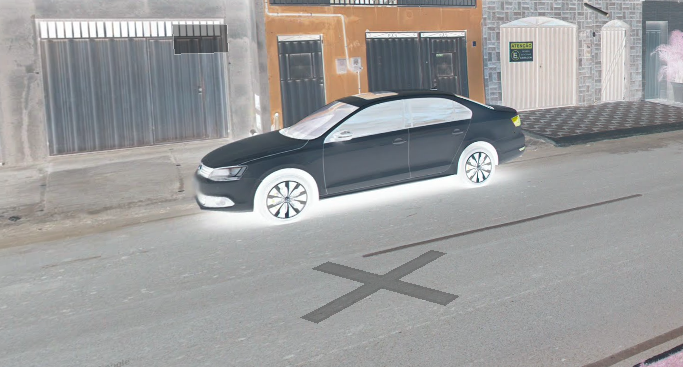car: (187, 87, 531, 229)
